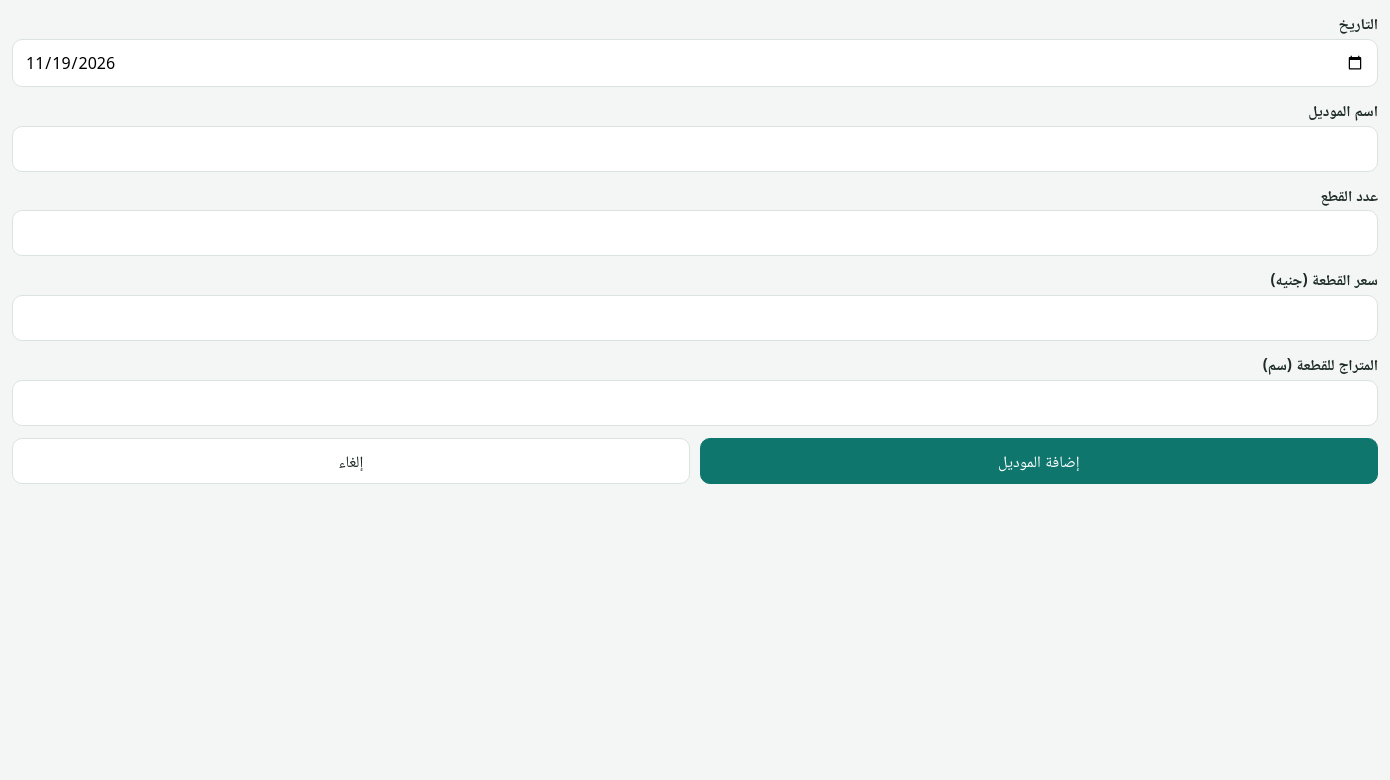
it: ModelForm › shows validation errors, does not submit, and clears an error when the field is edited
Click the button "إضافة الموديل" at (1039, 461), box [700,438,1378,484]
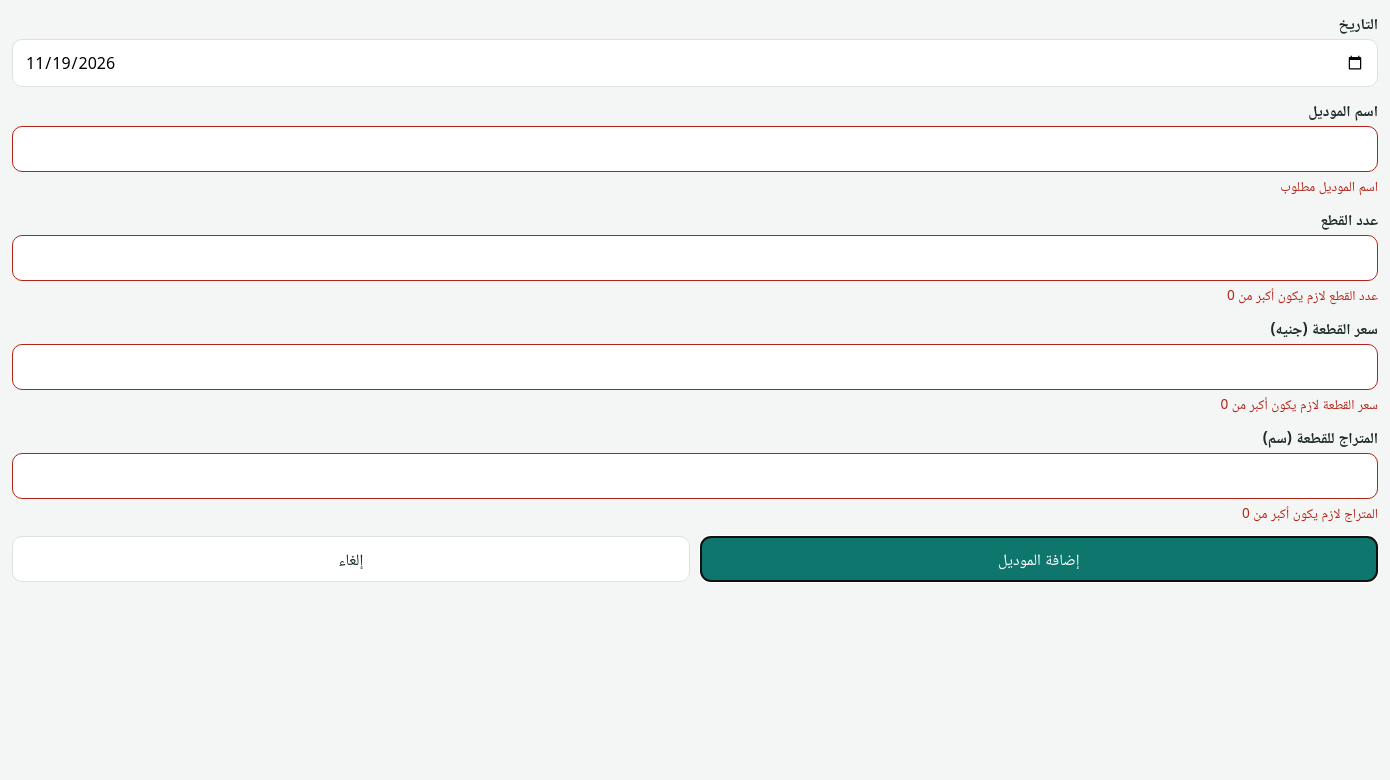
Check: the text "اسم الموديل مطلوب" is shown, box [1280,176,1378,195]
Check: the text "عدد القطع لازم يكون أكبر من 0" is shown, box [1227,285,1378,304]
Type "ب" into the field labelled "اسم الموديل" at (695, 149), box [12,126,1378,172]
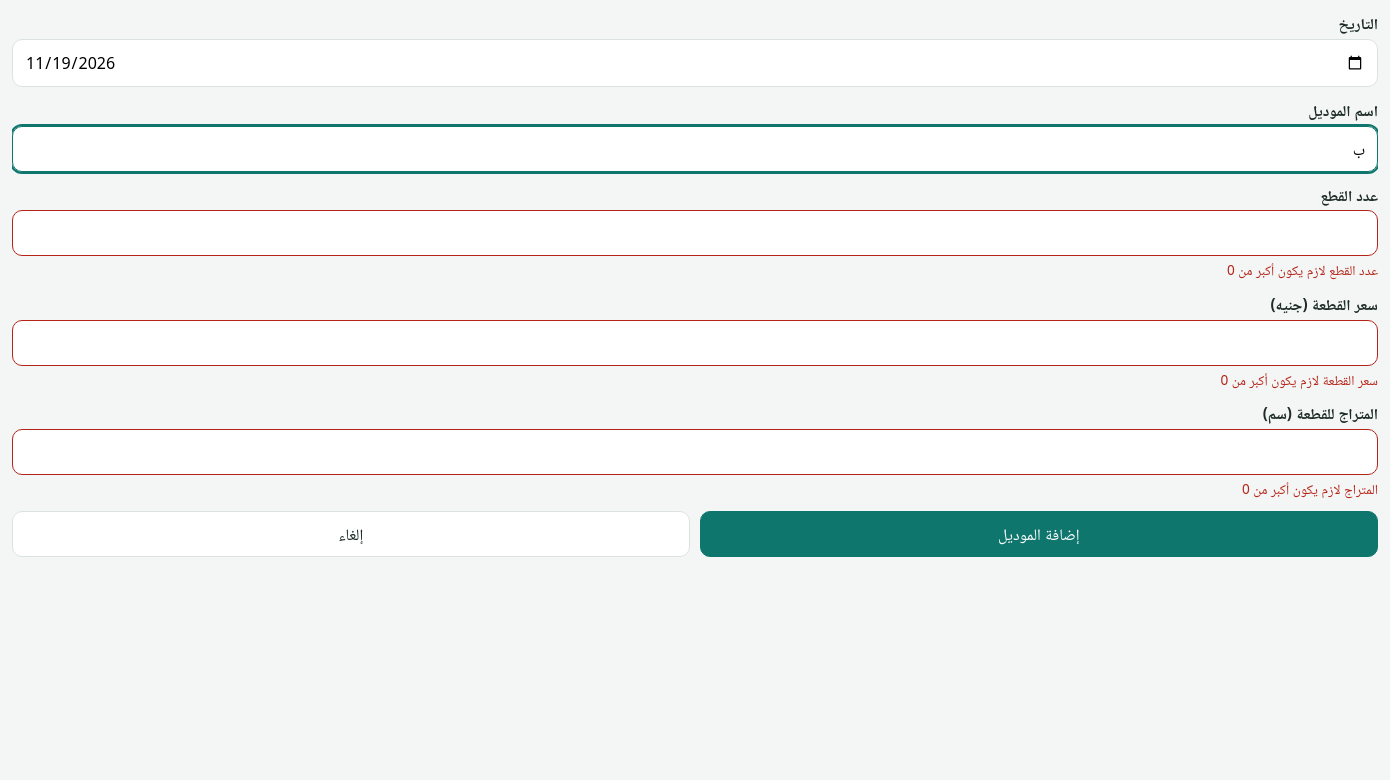
Check: the text "عدد القطع لازم يكون أكبر من 0" is shown, box [1227,260,1378,279]
Check: the text "اسم الموديل مطلوب" is gone
